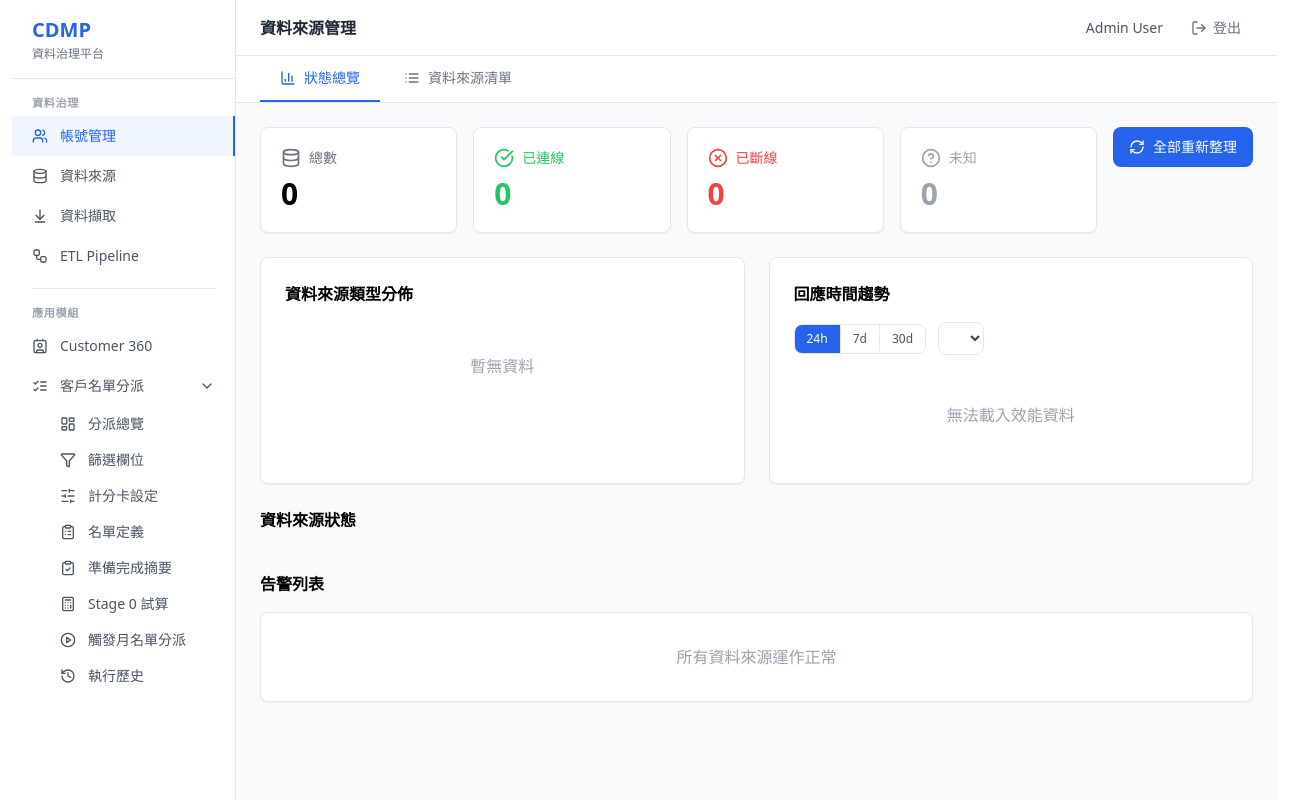
Test: DatasourceListPage › 空狀態 › should show empty state when no datasources
The image size is (1292, 800).
What coordinates should you click on to do the following:
click the tab with test id "tab-list"
I would click on:
 (458, 79)
Its box is [384, 56, 532, 102].
Wait 1350 ms
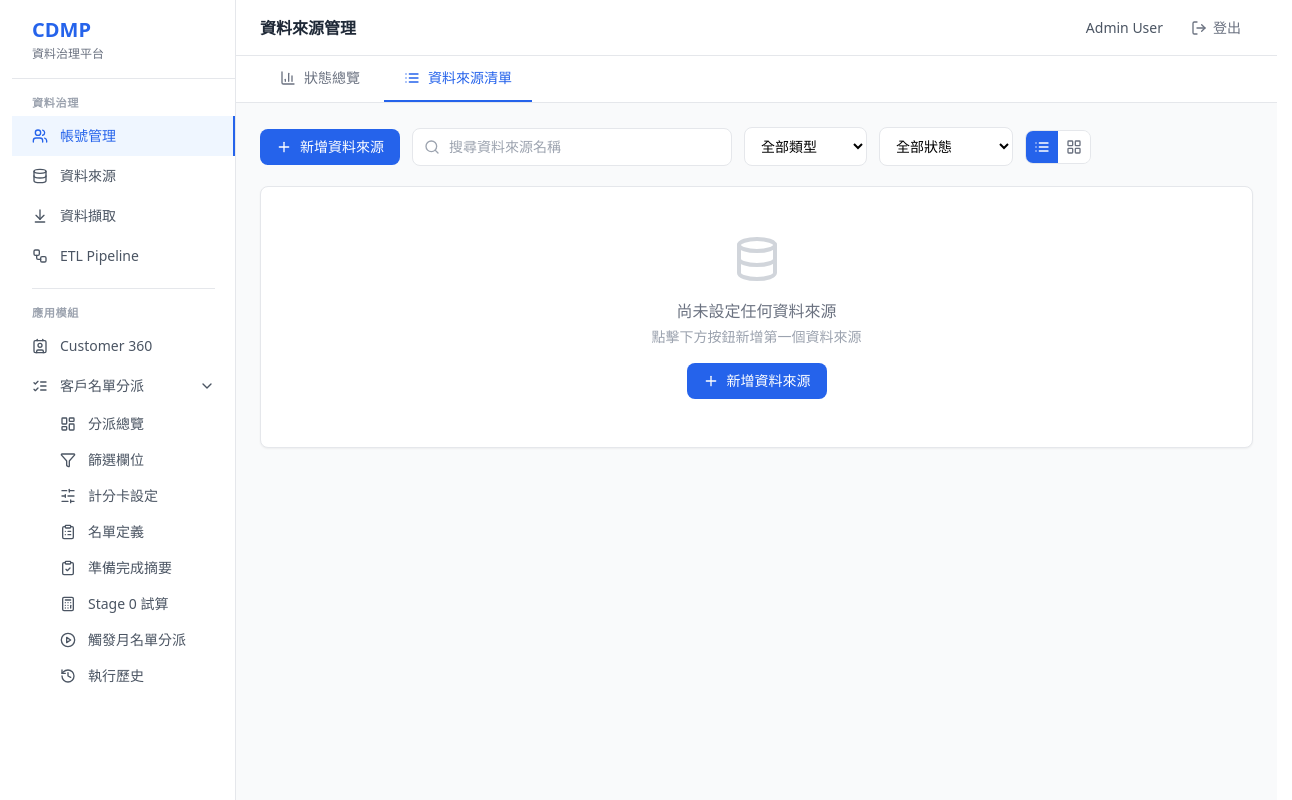
Expected: the text "尚未設定任何資料來源" is shown, [676, 300, 836, 322]
